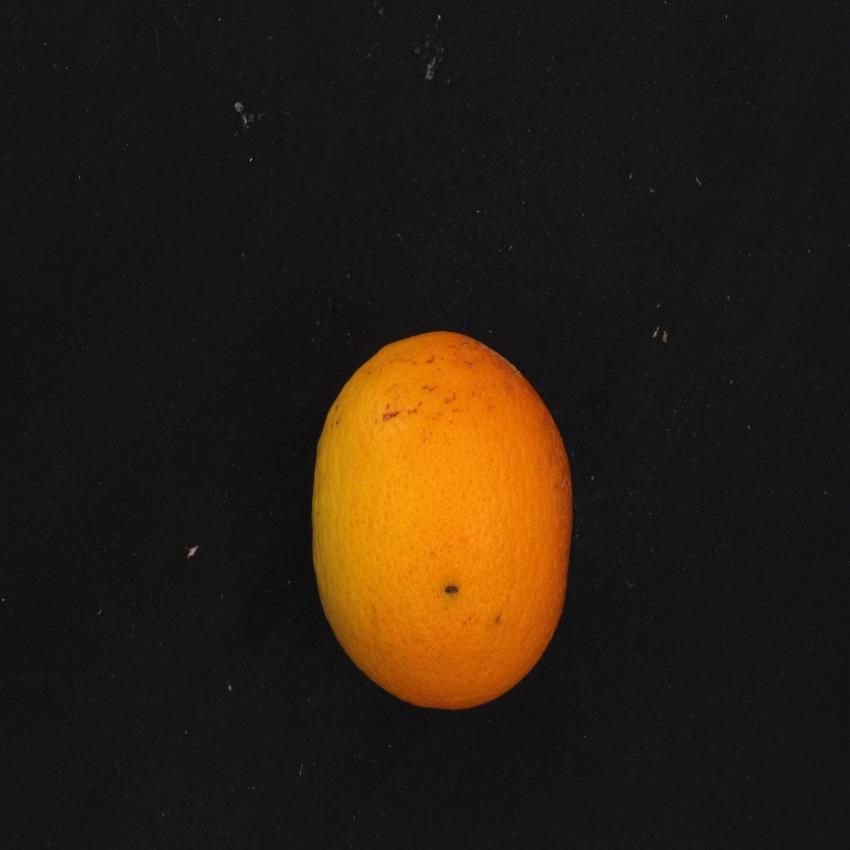Buen estado: (303, 314, 588, 730)
